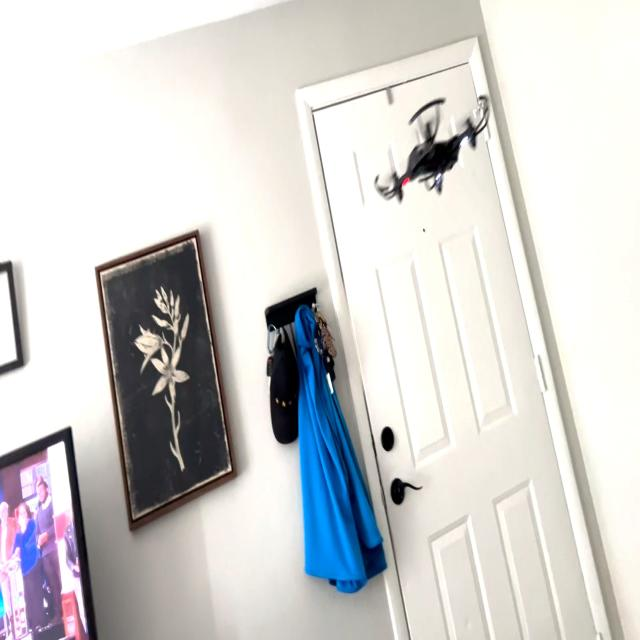drone: (368, 87, 496, 215)
